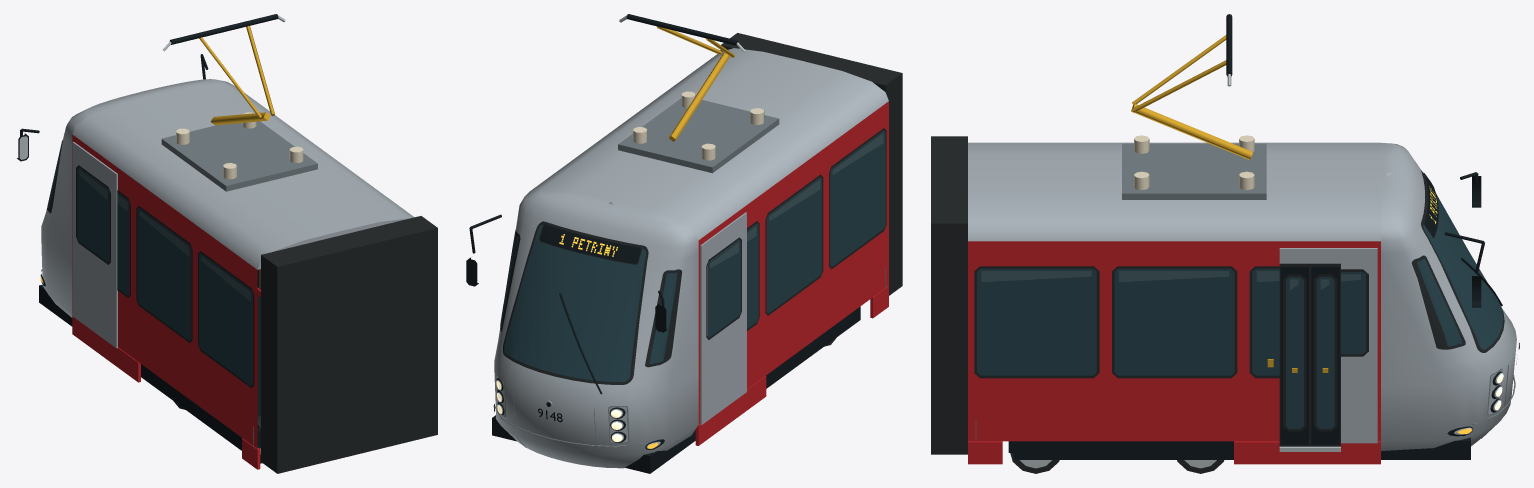
The model's file is 14t-a-viewer.glb.
3 renders of one model, left to right at view 1: azimuth 30°, elevation 25°; view 2: azimuth 150°, elevation 25°; view 3: azimuth 270°, elevation 25°, orthographic. The views are drawn at different scales.
Parts seen in each view (by area): view 1: 14t-a; view 2: 14t-a; view 3: 14t-a, 14t-a-door-1--0.772-0, 14t-a-door-1--0.772-1.
Part boxes in pixels (x1,y1,x2,y2): 14t-a: [17, 14, 437, 473]; 14t-a: [466, 14, 902, 473]; 14t-a: [931, 14, 1519, 473]; 14t-a-door-1--0.772-0: [1311, 266, 1339, 444]; 14t-a-door-1--0.772-1: [1280, 266, 1308, 444].
Bounding box in the file's own units: 2.86 × 5.03 × 6.72.
